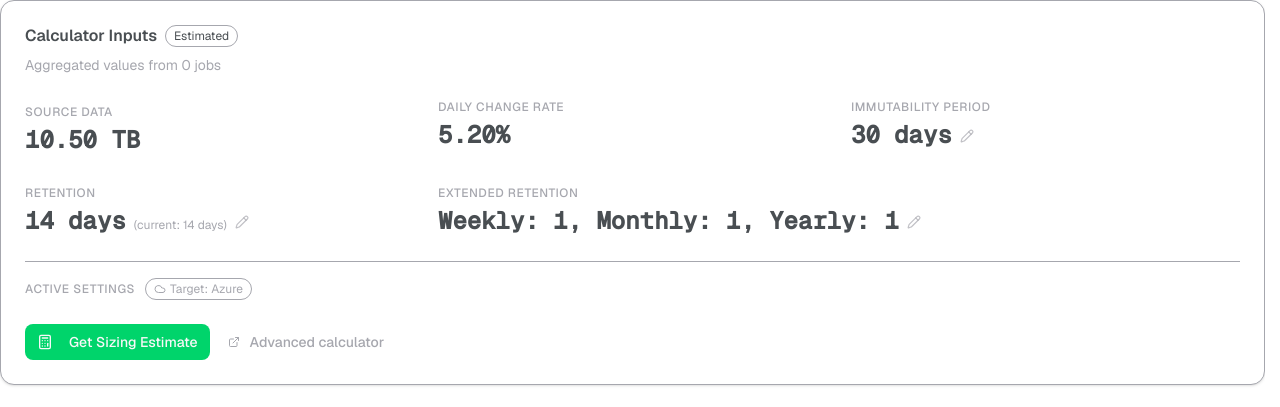
Test: CalculatorInputs › controlled consent behavior (new prop interface) › disables calculate button while retention editor is open
This screenshot has width=1280, height=407.
Click the button named "edit retention".
click(242, 222)  # box [235,215,249,229]
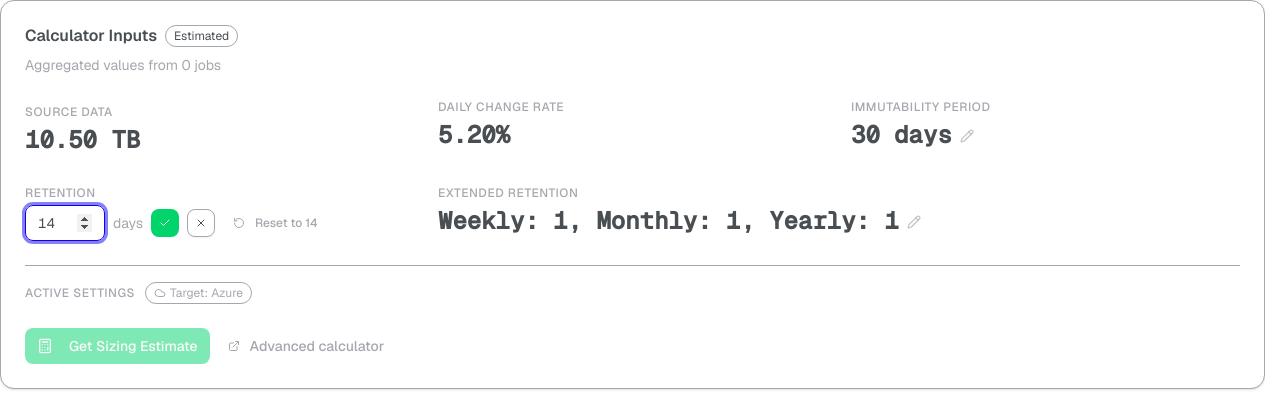
Check: the button "Get Sizing Estimate" is disabled, box [25,328,210,364]
